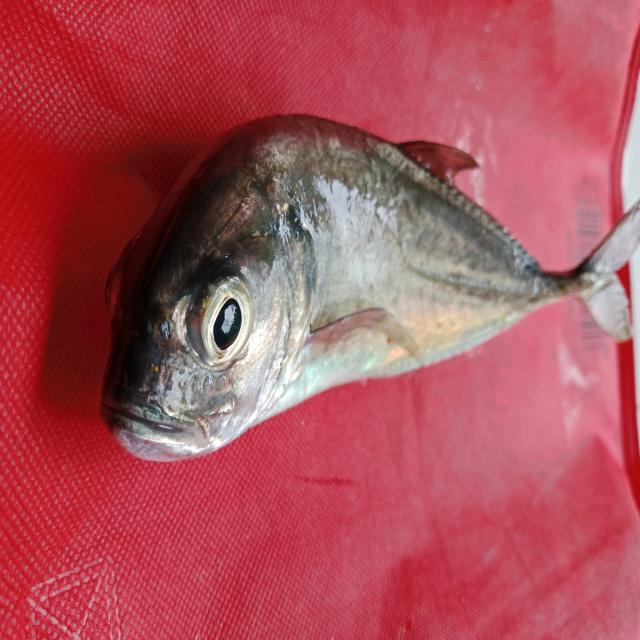ikan: (82, 75, 634, 488)
